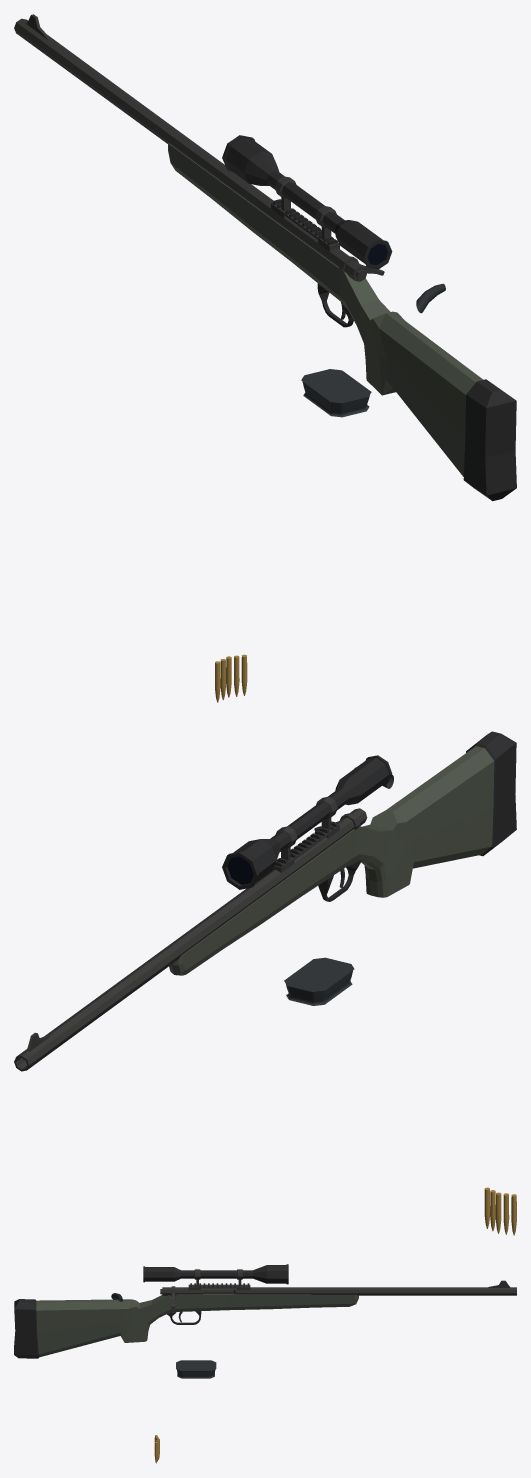
File: m24_reloadable.glb
The picture shows the model from 3 angles, top to bottom: view 1: azimuth 30°, elevation 25°; view 2: azimuth 150°, elevation 25°; view 3: azimuth 270°, elevation 25°; orthographic projection. The views are drawn at different scales.
Parts seen in each view (by area): view 1: WeaponBodyGeometry, MagazineGeometry, SpareMagazineGeometry; view 2: WeaponBodyGeometry, MagazineGeometry, SpareMagazineGeometry; view 3: WeaponBodyGeometry, MagazineGeometry.
Boxes of the visible parts, x1=… form: WeaponBodyGeometry: x1=14, y1=14, x2=516, y2=501; MagazineGeometry: x1=301, y1=369, x2=371, y2=417; SpareMagazineGeometry: x1=215, y1=654, x2=247, y2=702; WeaponBodyGeometry: x1=14, y1=731, x2=516, y2=1071; MagazineGeometry: x1=284, y1=957, x2=354, y2=1005; SpareMagazineGeometry: x1=484, y1=1187, x2=516, y2=1235; WeaponBodyGeometry: x1=14, y1=1264, x2=516, y2=1358; MagazineGeometry: x1=176, y1=1360, x2=216, y2=1378.
Bounding box in the file's own units: 0.4082 × 0.877 × 1.74.
